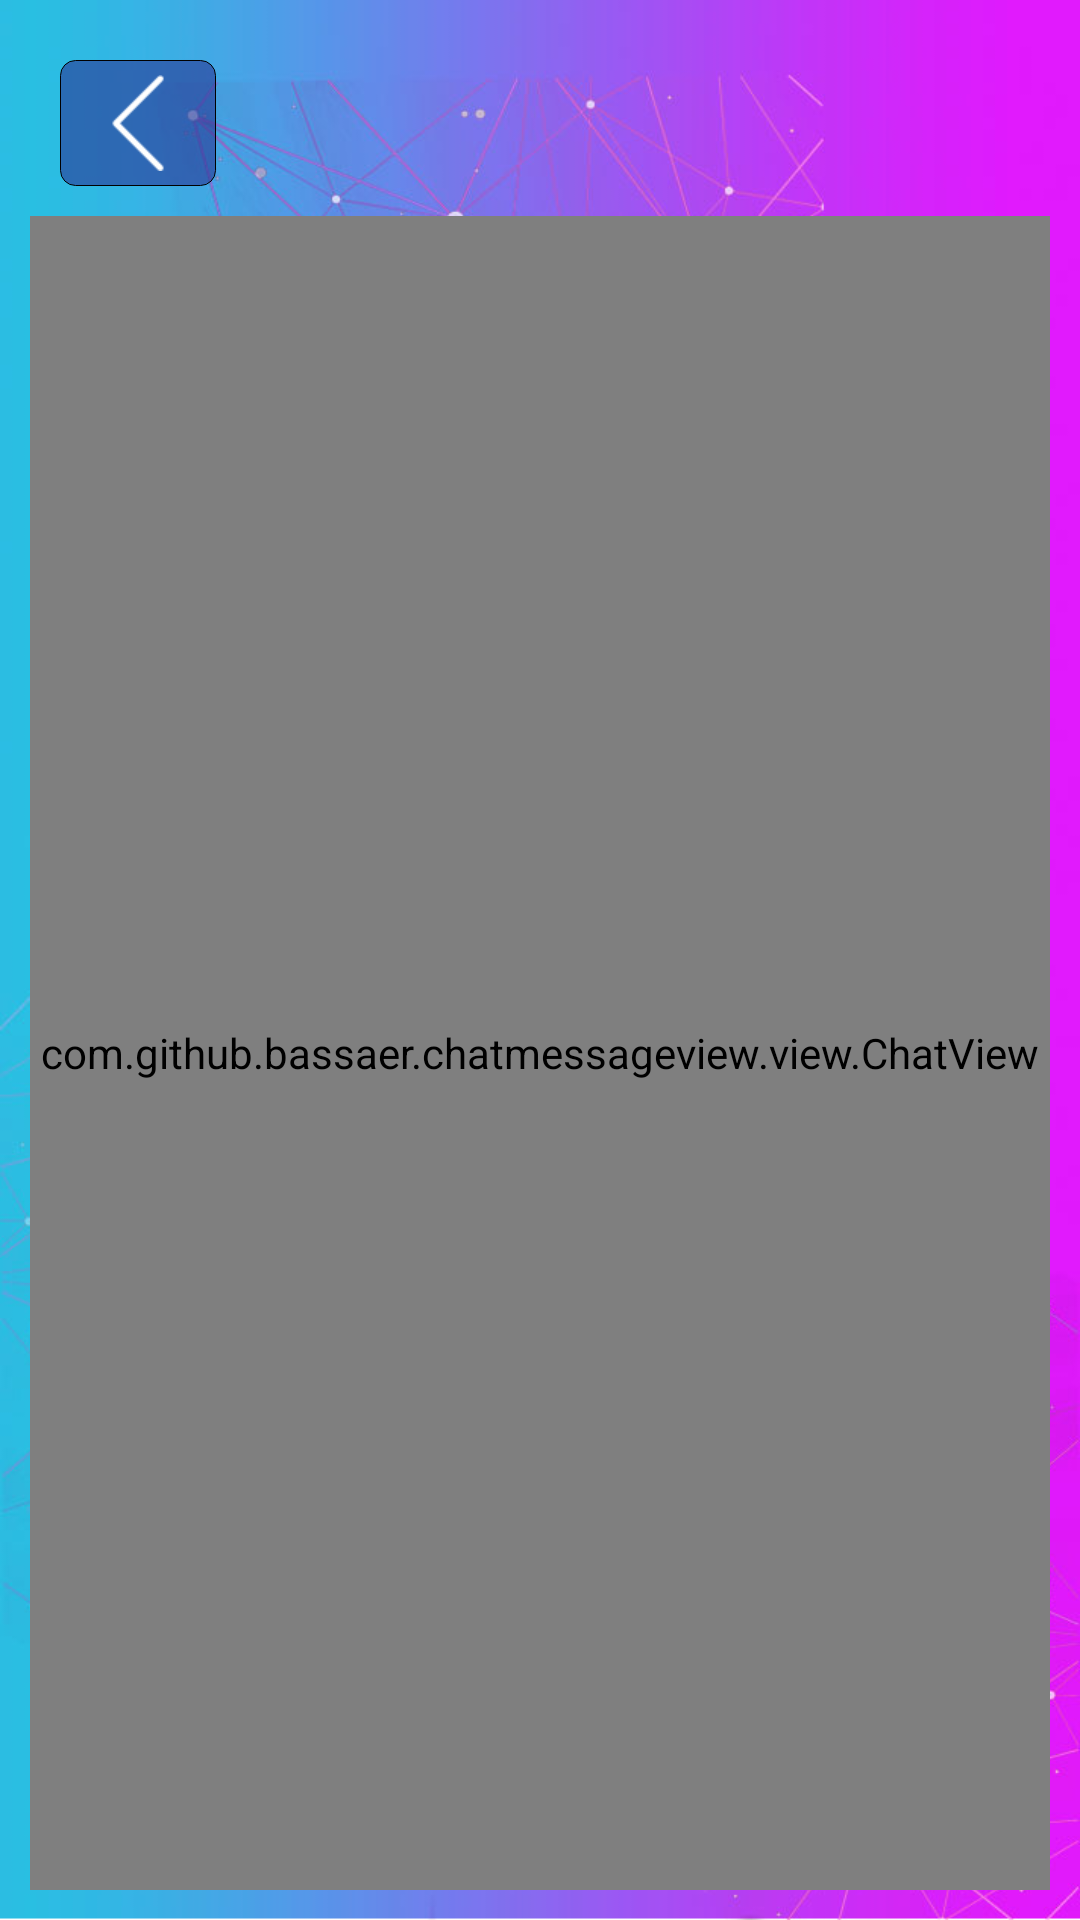

Locate icon controls on the screen. Image size 1080px x 1920px, boxes as [x1,y1,x2,y2].
backicon: [112,75,186,171]
